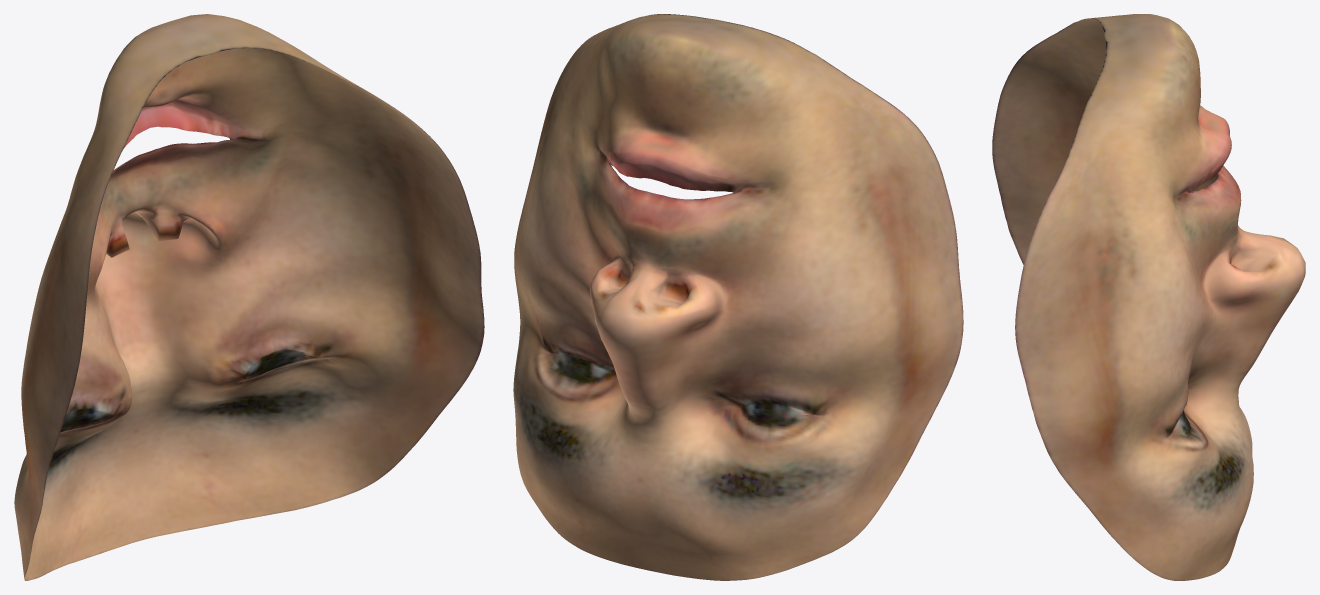
The model's file is NextFace.glb.
The picture shows the model from 3 angles, left to right: view 1: azimuth 30°, elevation 25°; view 2: azimuth 150°, elevation 25°; view 3: azimuth 270°, elevation 25°; orthographic projection. The views are drawn at different scales.
Visible parts, largest first — view 1: mesh0.004; view 2: mesh0.004; view 3: mesh0.004.
Boxes of the visible parts, x1=… form: mesh0.004: x1=14, y1=14, x2=484, y2=580; mesh0.004: x1=513, y1=14, x2=963, y2=580; mesh0.004: x1=992, y1=14, x2=1305, y2=580.
Size of the model in its own units: 0.8573 by 1 by 0.566.
1 material, 1 textured.
